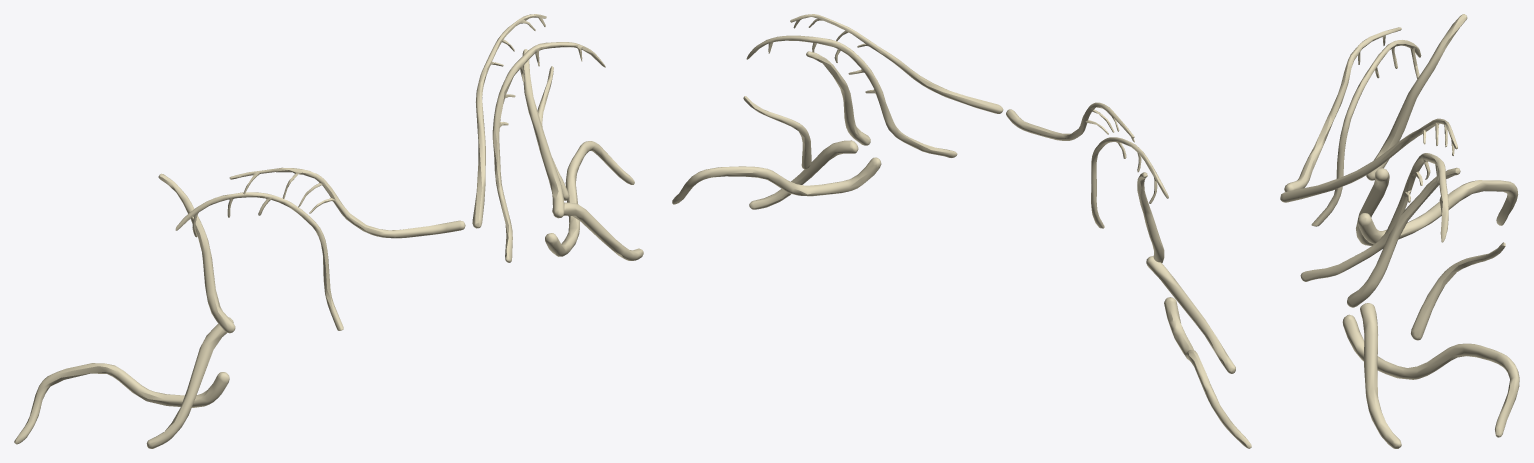
Rendered from bodyparts3d-arterial-renal.glb.
The picture shows the model from 3 angles, left to right: view 1: azimuth 30°, elevation 25°; view 2: azimuth 150°, elevation 25°; view 3: azimuth 270°, elevation 25°; orthographic projection. The views are drawn at different scales.
Visible parts, largest first — view 1: arterial-fma86348, arterial-fma86349, arterial-fma69266, arterial-fma14755, arterial-fma14756, arterial-fma69265, arterial-fma86346, arterial-fma86340, arterial-fma86341, arterial-fma86347; view 2: arterial-fma86349, arterial-fma69266, arterial-fma86348, arterial-fma14756, arterial-fma86346, arterial-fma14755, arterial-fma86347, arterial-fma69265, arterial-fma86341, arterial-fma86340; view 3: arterial-fma86349, arterial-fma69266, arterial-fma86348, arterial-fma86347, arterial-fma14756, arterial-fma86341, arterial-fma69265, arterial-fma86340, arterial-fma14755, arterial-fma86346.
Boxes of the visible parts, x1,y1,x2,y2 form: arterial-fma86348: (14,363,229,444); arterial-fma86349: (537,66,634,256); arterial-fma69266: (492,42,605,262); arterial-fma14755: (229,167,465,238); arterial-fma14756: (472,14,546,228); arterial-fma69265: (175,192,343,330); arterial-fma86346: (146,317,233,448); arterial-fma86340: (158,173,235,333); arterial-fma86341: (522,49,564,218); arterial-fma86347: (552,202,643,260); arterial-fma86349: (672,96,881,204); arterial-fma69266: (746,35,957,157); arterial-fma86348: (1164,297,1251,448); arterial-fma14756: (790,14,1003,113); arterial-fma86346: (1146,256,1235,373); arterial-fma14755: (1006,102,1134,142); arterial-fma86347: (749,140,858,209); arterial-fma69265: (1091,137,1168,228); arterial-fma86341: (806,51,870,145); arterial-fma86340: (1137,172,1164,262); arterial-fma86349: (1342,242,1519,437); arterial-fma69266: (1300,153,1448,281); arterial-fma86348: (1357,180,1518,244); arterial-fma86347: (1360,303,1401,448); arterial-fma14756: (1280,118,1457,202); arterial-fma86341: (1347,167,1460,307); arterial-fma69265: (1311,40,1421,226); arterial-fma86340: (1366,14,1467,180); arterial-fma14755: (1284,27,1401,191); arterial-fma86346: (1356,168,1389,245).
Bounding box in the file's own units: 0.2053 × 0.1038 × 0.0616.
